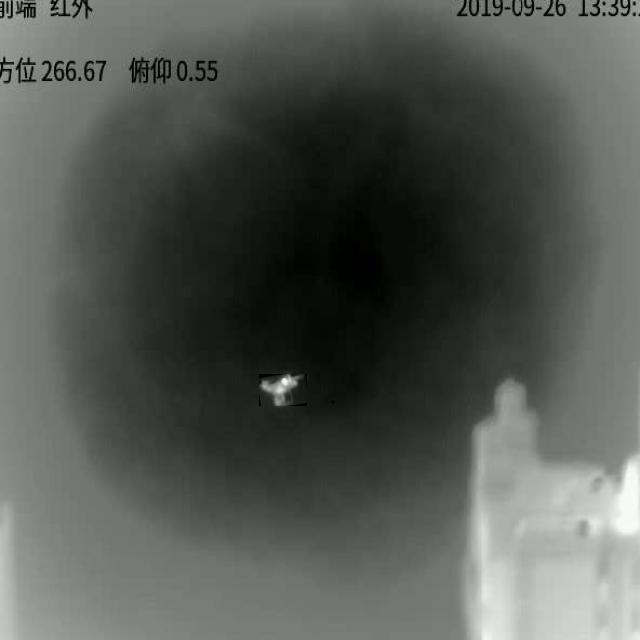drone: (259, 374, 305, 406)
